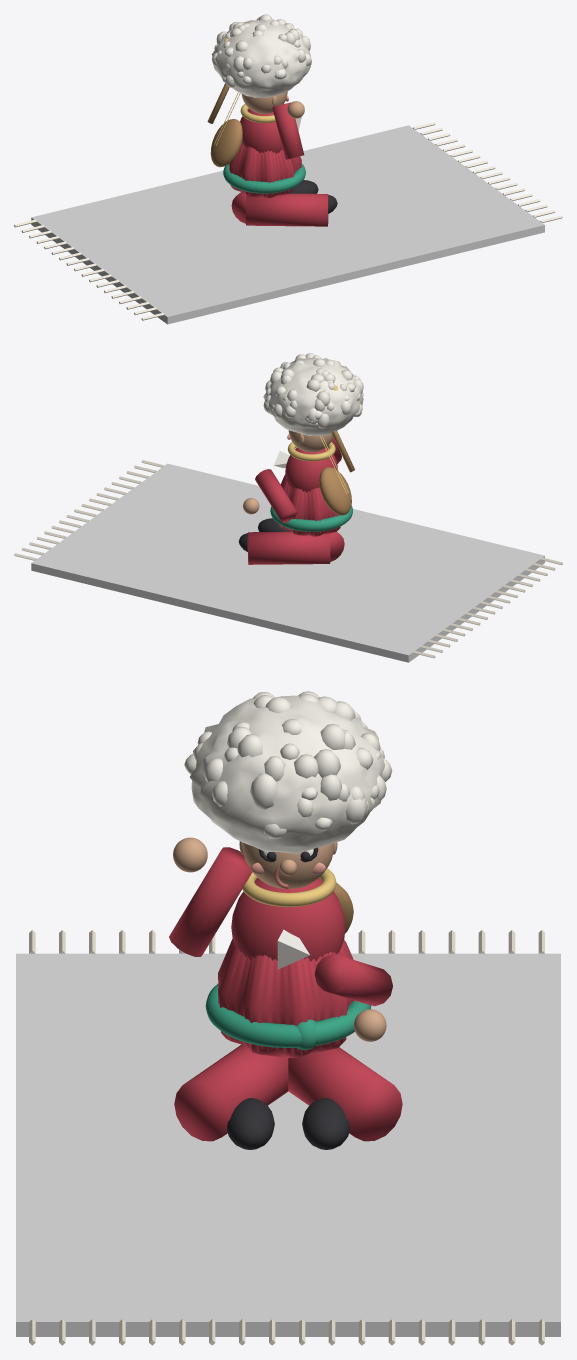
The model's file is hero.glb.
The picture shows the model from 3 angles, top to bottom: view 1: azimuth 30°, elevation 25°; view 2: azimuth 150°, elevation 25°; view 3: azimuth 270°, elevation 25°; orthographic projection. The views are drawn at different scales.
Visible parts, largest first — view 1: Carpet, Telpek, Cylinder.036, Cone, Sphere.002, Sphere.081, Torus.001, ArmR, Sphere.005; view 2: Carpet, Telpek, Cylinder.037, Cone, Sphere.002, Sphere.081, Cylinder.038, Torus.001, Sphere.005, Torus; view 3: Carpet, Telpek, Cone, Cylinder.036, Cylinder.037, Sphere.002, ArmR, Torus.001, Cylinder.038, Sphere.005, Sphere, Sphere.001 (+4 smaller).
Part boxes in pixels (box(x1,y1,x2,y2)): Carpet: box(31, 125, 544, 324); Telpek: box(211, 18, 311, 97); Cylinder.036: box(246, 193, 328, 226); Cone: box(229, 142, 301, 198); Sphere.002: box(240, 108, 282, 153); Sphere.081: box(210, 119, 242, 167); Torus.001: box(223, 163, 305, 193); ArmR: box(272, 102, 304, 159); Sphere.005: box(241, 91, 287, 113); Carpet: box(31, 463, 544, 662); Telpek: box(263, 358, 363, 435); Cylinder.037: box(247, 531, 330, 564); Cone: box(278, 474, 340, 536); Sphere.002: box(285, 447, 337, 492); Sphere.081: box(319, 467, 351, 515); Cylinder.038: box(255, 469, 297, 522); Torus.001: box(270, 505, 352, 531); Sphere.005: box(288, 430, 333, 452); Torus: box(287, 442, 335, 461); Carpet: box(16, 953, 560, 1336); Telpek: box(190, 695, 384, 854); Cone: box(218, 939, 354, 1057); Cylinder.036: box(174, 1044, 288, 1141); Cylinder.037: box(288, 1047, 402, 1141); Sphere.002: box(231, 878, 345, 961); ArmR: box(169, 847, 252, 956); Torus.001: box(205, 984, 371, 1047); Cylinder.038: box(314, 954, 392, 1005); Sphere.005: box(242, 842, 334, 888); Sphere: box(302, 1098, 349, 1149); Sphere.001: box(227, 1098, 274, 1149).
Size of the model in its own units: 1.78 by 0.8623 by 1.
